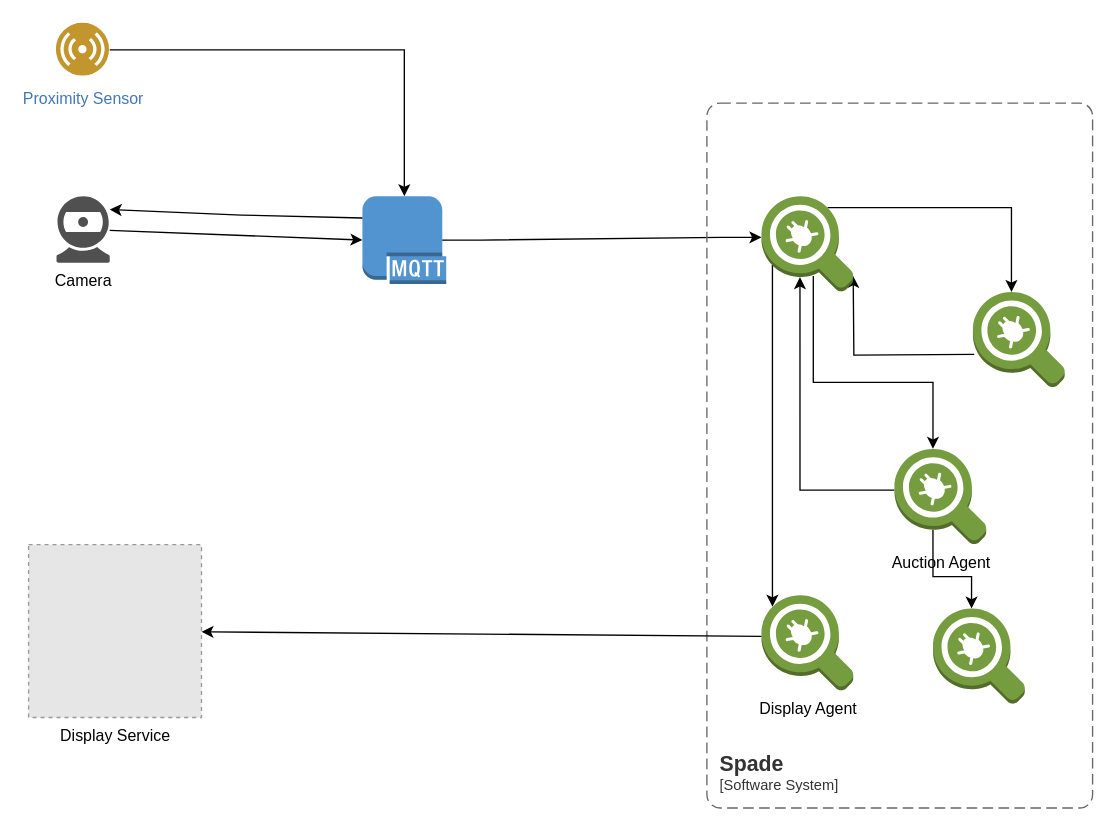
This 1116x831 diagram has some shape labels left out. Grey dashed boxes stand in for pictures. Here are the shapes that lost their labels. From the top down, the centre of each, then its label:
the point at 806,243: Core Agent
the point at 1018,339: Image Processing Agent
the point at 978,655: Auction Participant Agent
